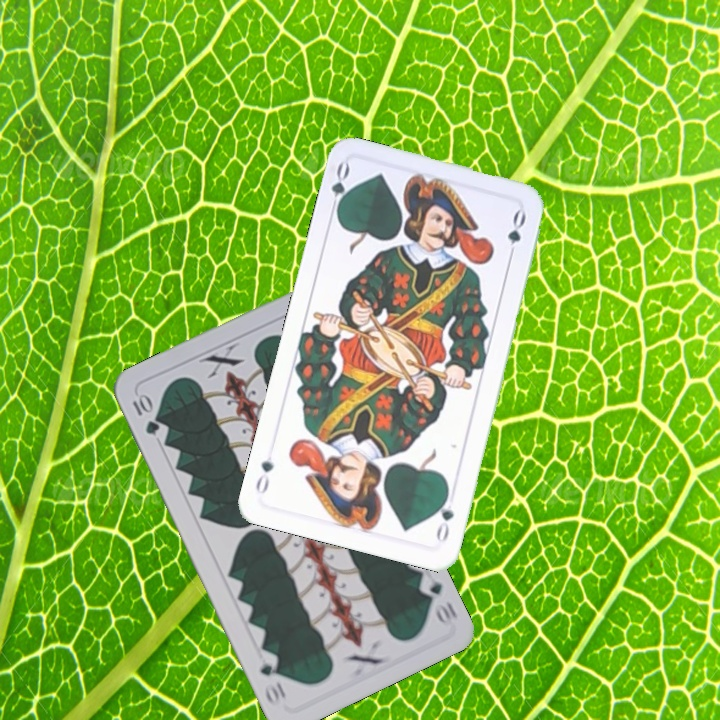G10: (415, 571, 461, 627), (128, 390, 162, 438)
GO: (326, 159, 355, 219), (432, 486, 457, 545)
